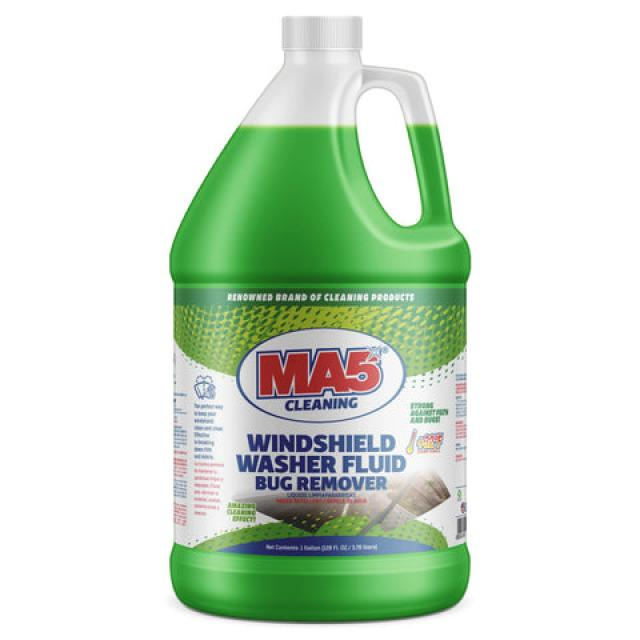winwinshield_washer: (164, 8, 476, 622)
